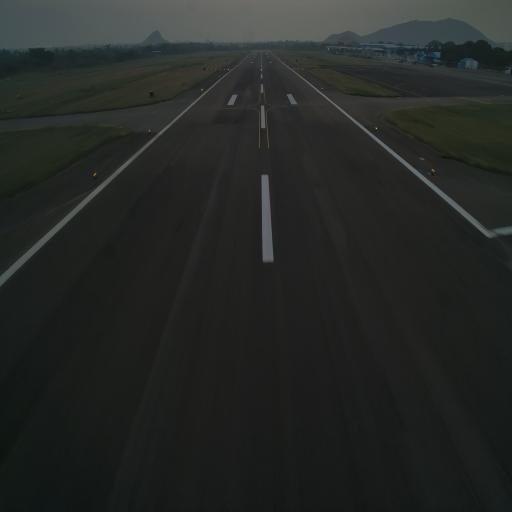on: (430, 166, 434, 176), (93, 170, 98, 178)
